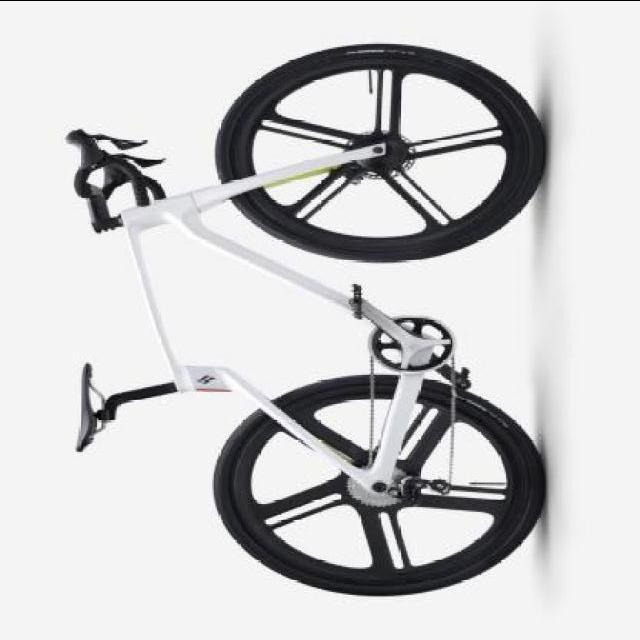bicycle: (49, 41, 549, 601)
